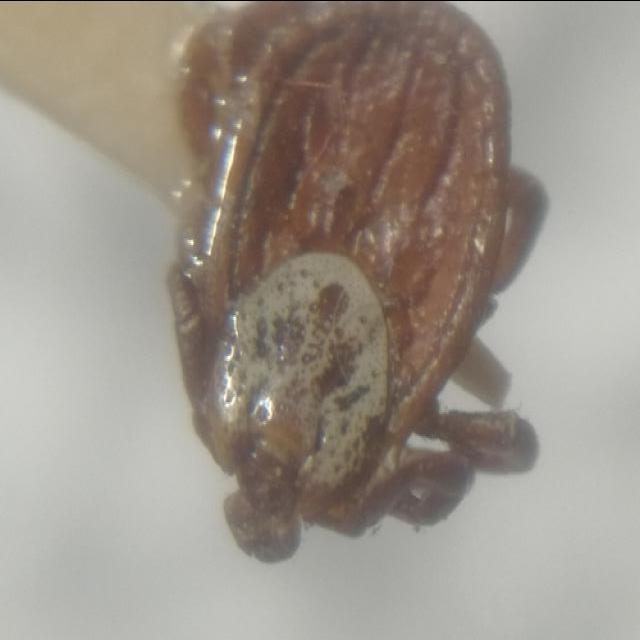Dermacentor Reticulatus-F: (168, 0, 553, 565)
